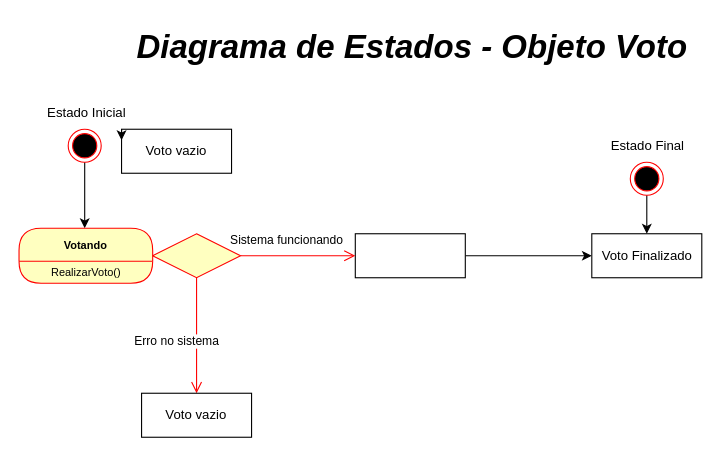
This 722x457 diagram has some shape labels left out. Each missing label, with the centre of its shape:
Condition: pixel 196 255
Voto em andamento: pixel 409 255
